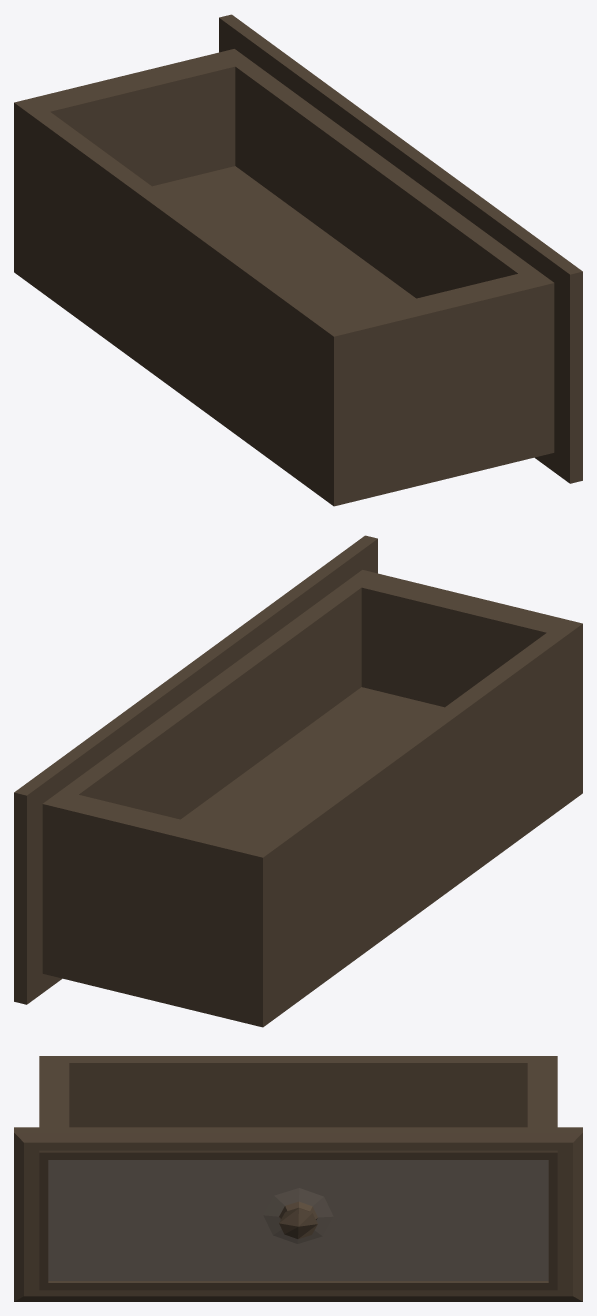
Rendered from bookshelf_fancy_drawer.fbx.
3 renders of one model, top to bottom at view 1: azimuth 30°, elevation 25°; view 2: azimuth 150°, elevation 25°; view 3: azimuth 270°, elevation 25°, orthographic. The views are drawn at different scales.
Visible parts, largest first — view 1: drawer_bookshelf; view 2: drawer_bookshelf; view 3: drawer_bookshelf.
Boxes of the visible parts, box(x1,y1,x2,y2) form: drawer_bookshelf: box(14, 14, 582, 506); drawer_bookshelf: box(14, 535, 582, 1027); drawer_bookshelf: box(14, 1056, 582, 1301).
Bounding box in the file's own units: 88.2 × 66.19 × 201.
